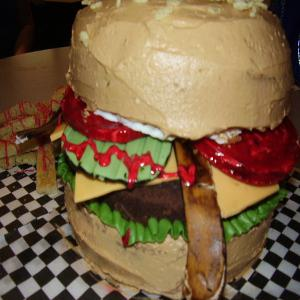cheeseburger_475cal: (52, 4, 295, 288)
